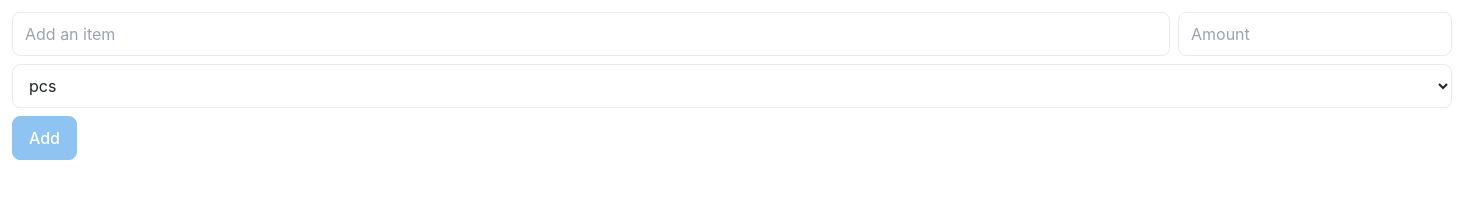
Test: QuickAddRow › amount validation (F4) › marks the amount invalid for a negative number
The image size is (1464, 201).
Type "Bananas" into the field named "Item name" at (591, 34), box [12,12,1170,56]
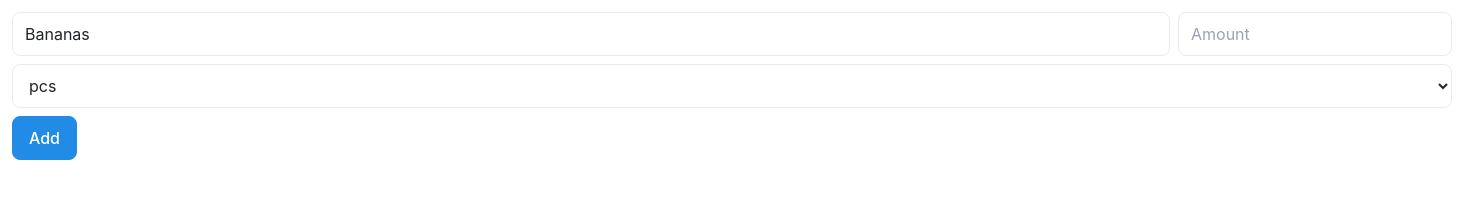
Type "-2" into the number field labelled "Amount" at (1315, 34), box [1178,12,1452,56]
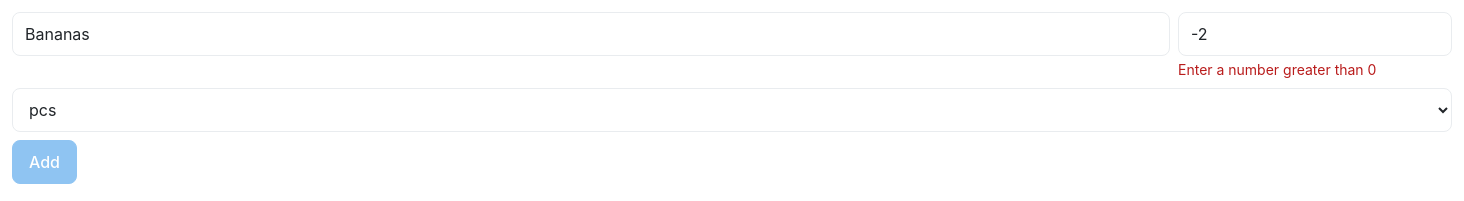
expect the button "Add" is disabled: met, box [12,140,77,184]
